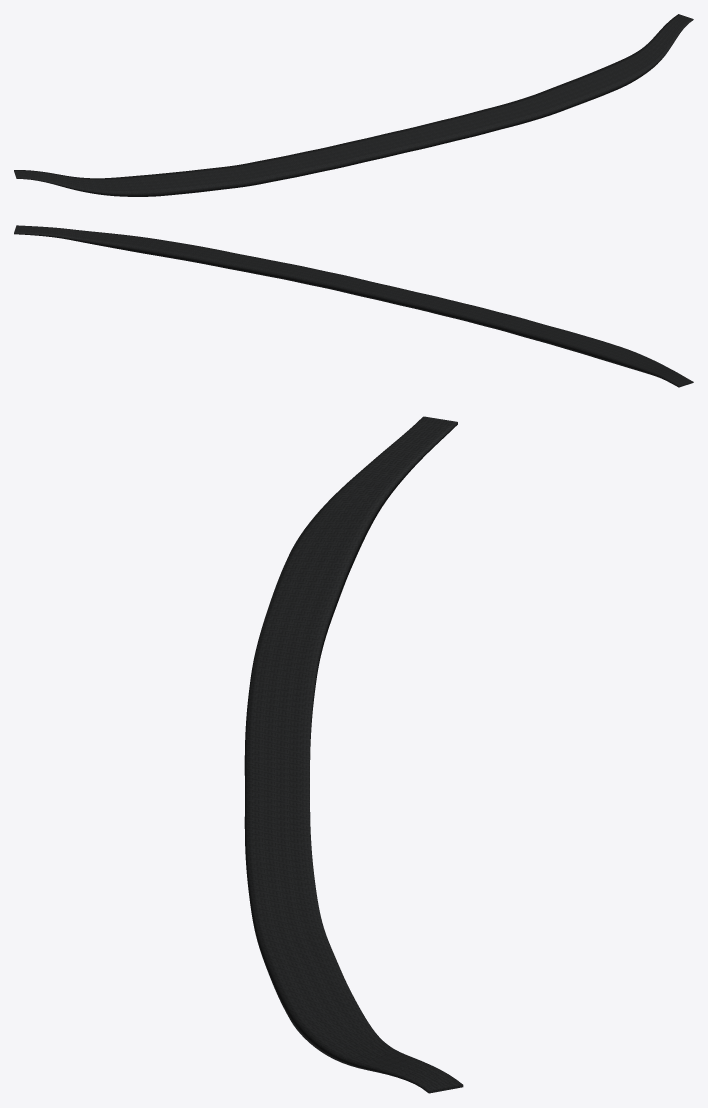
The model's file is FA44_carbon_lip.glb.
3 views of the same model, one above another, from view 1: azimuth 30°, elevation 25°; view 2: azimuth 150°, elevation 25°; view 3: azimuth 270°, elevation 25° (orthographic). The views are drawn at different scales.
Parts seen in each view (by area): view 1: MOD_NA_FA44_blade; view 2: MOD_NA_FA44_blade; view 3: MOD_NA_FA44_blade.
Part boxes in pixels (x1,y1,x2,y2): MOD_NA_FA44_blade: (14, 14, 693, 196); MOD_NA_FA44_blade: (14, 225, 693, 387); MOD_NA_FA44_blade: (244, 416, 463, 1093).
Bounding box in the file's own units: 1.38 × 0.0548 × 0.193.
1 material, 1 textured.
